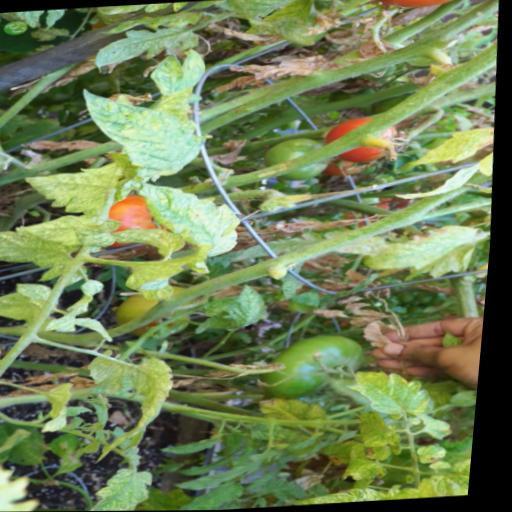Spider Mites: (78, 82, 216, 189), (133, 175, 255, 274), (87, 349, 187, 464), (364, 223, 496, 283), (347, 366, 442, 423), (0, 226, 88, 285), (92, 26, 200, 73), (24, 170, 119, 220), (17, 214, 126, 252), (408, 127, 498, 169), (86, 466, 165, 511), (149, 47, 210, 97), (111, 226, 193, 260), (291, 487, 412, 507), (97, 12, 204, 34), (227, 283, 277, 330), (436, 458, 480, 498), (47, 309, 85, 336), (18, 282, 60, 303), (421, 445, 458, 466)
